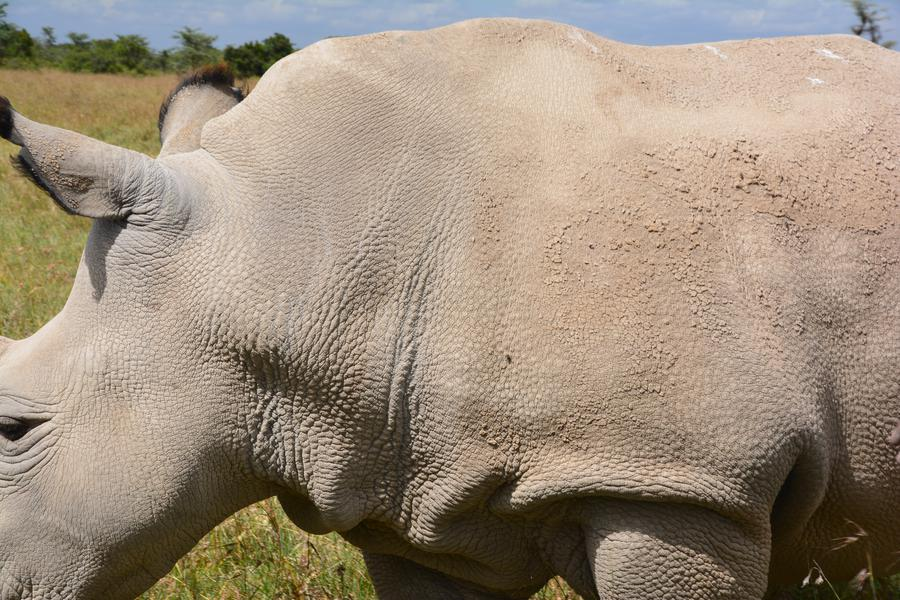rhino: (13, 28, 895, 576)
